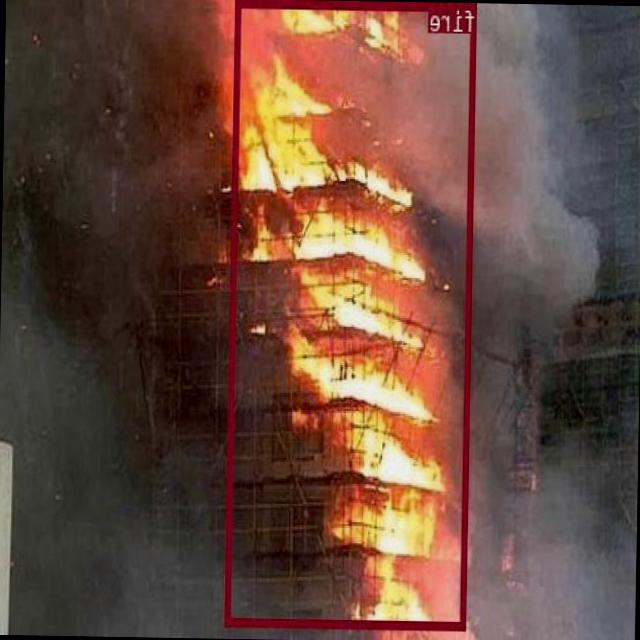fire: (226, 0, 477, 627)
